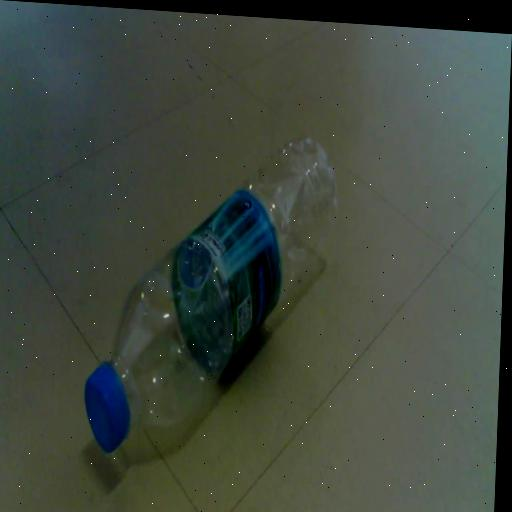bottle: (66, 98, 358, 487)
